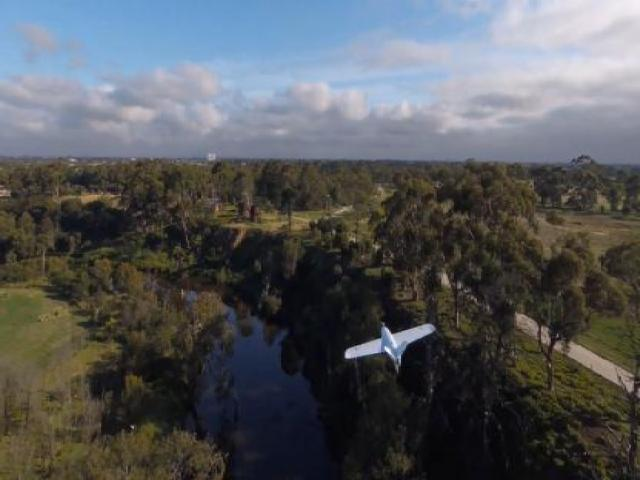uav: (342, 323, 436, 373)
